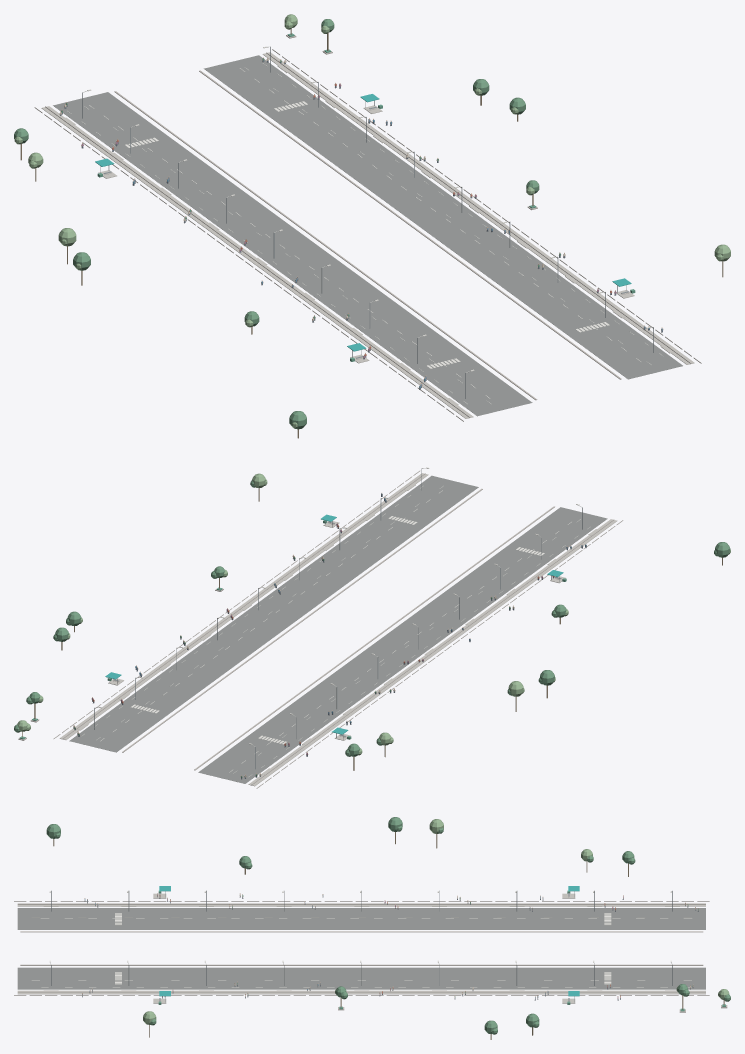
The picture shows the model from 3 angles, top to bottom: view 1: azimuth 30°, elevation 25°; view 2: azimuth 150°, elevation 25°; view 3: azimuth 270°, elevation 25°; orthographic projection. The views are drawn at different scales.
Visible parts, largest first — view 1: nearby/10; view 2: nearby/10; view 3: nearby/10.
Part boxes in pixels (x1,y1,x2,y2): nearby/10: (14, 14, 730, 438); nearby/10: (14, 467, 730, 788); nearby/10: (14, 817, 730, 1039).
Bounding box in the file's own units: 184 × 12.28 × 277.
